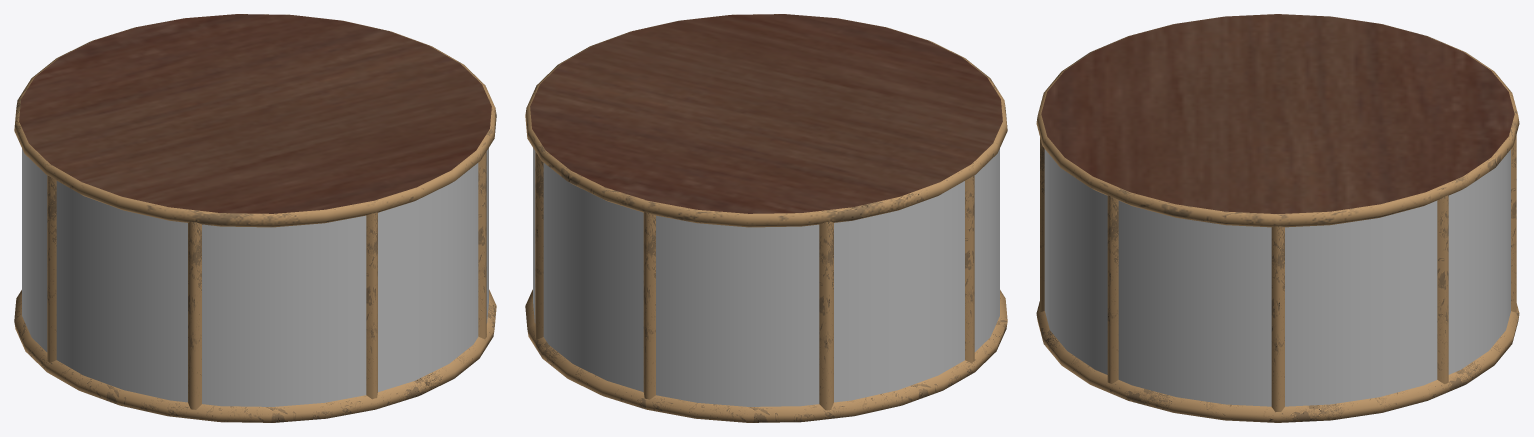
File: Lamp_02.FBX
3 renders of one model, left to right at view 1: azimuth 30°, elevation 25°; view 2: azimuth 150°, elevation 25°; view 3: azimuth 270°, elevation 25°, orthographic.
Parts seen in each view (by area): view 1: Lamp_02; view 2: Lamp_02; view 3: Lamp_02.
Boxes of the visible parts, box(x1,y1,x2,y2) form: Lamp_02: box(14, 14, 496, 422); Lamp_02: box(525, 14, 1007, 422); Lamp_02: box(1036, 14, 1519, 422).
Size of the model in its own units: 42.59 by 20.3 by 42.59.
